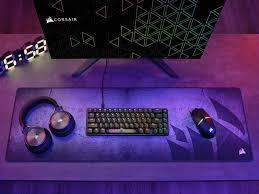keyboard: (85, 107, 169, 136)
